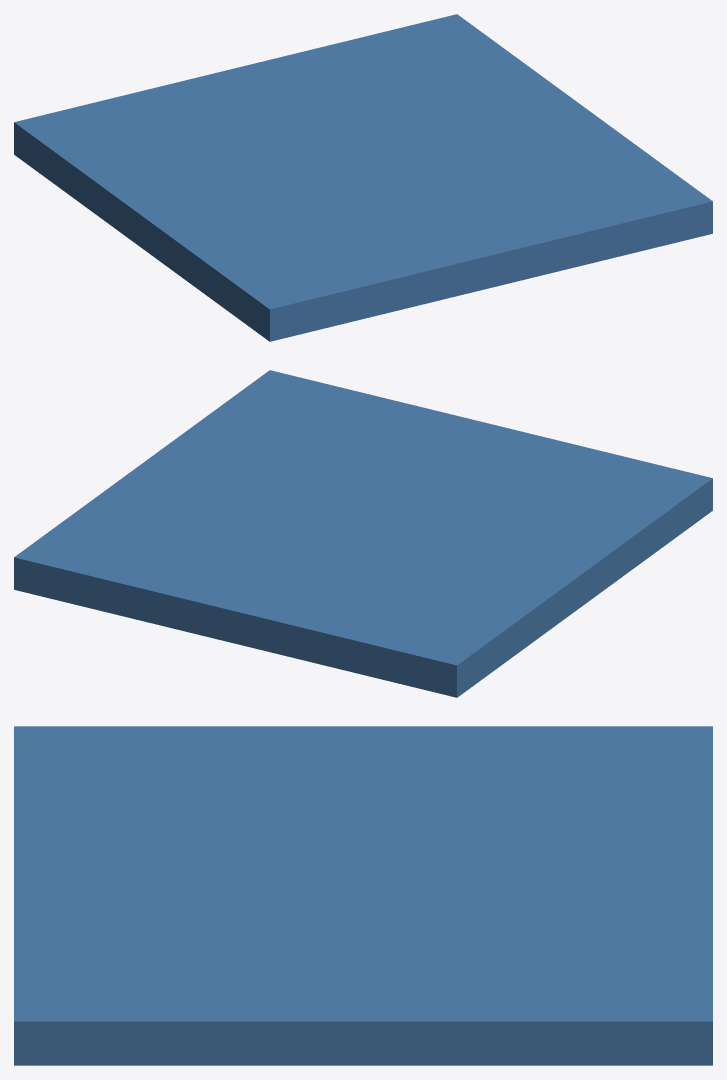
File: AL_Radar.fbx
3 views of the same model, one above another, from view 1: azimuth 30°, elevation 25°; view 2: azimuth 150°, elevation 25°; view 3: azimuth 270°, elevation 25° (orthographic). The views are drawn at different scales.
Visible parts, largest first — view 1: Cube.001; view 2: Cube.001; view 3: Cube.001.
Part boxes in pixels (x1,y1,x2,y2): Cube.001: (14, 14, 712, 341); Cube.001: (14, 370, 712, 697); Cube.001: (14, 726, 712, 1065).
Bounding box in the file's own units: 1360 × 143 × 1360.
